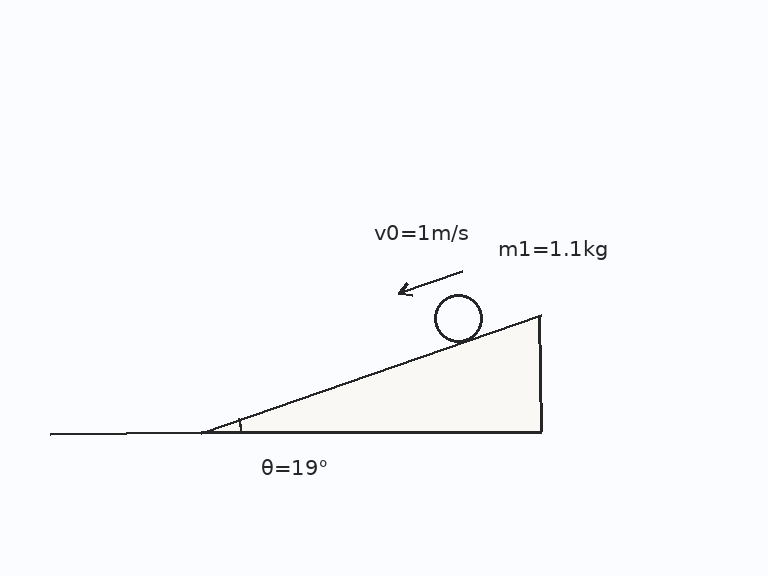ball: (432, 292, 484, 344)
ramp: (199, 313, 542, 434)
